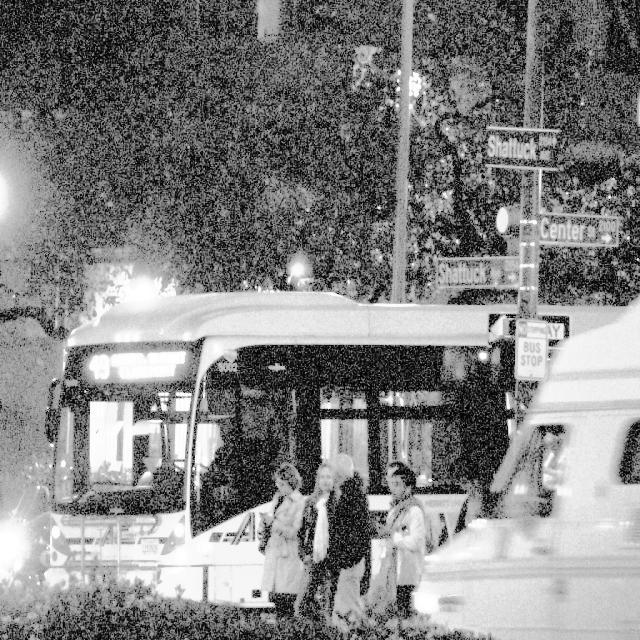Bus: (40, 217, 580, 618)
Car: (454, 319, 640, 640)
Person: (363, 436, 448, 636), (288, 457, 357, 632), (258, 447, 312, 638), (327, 437, 365, 639)
